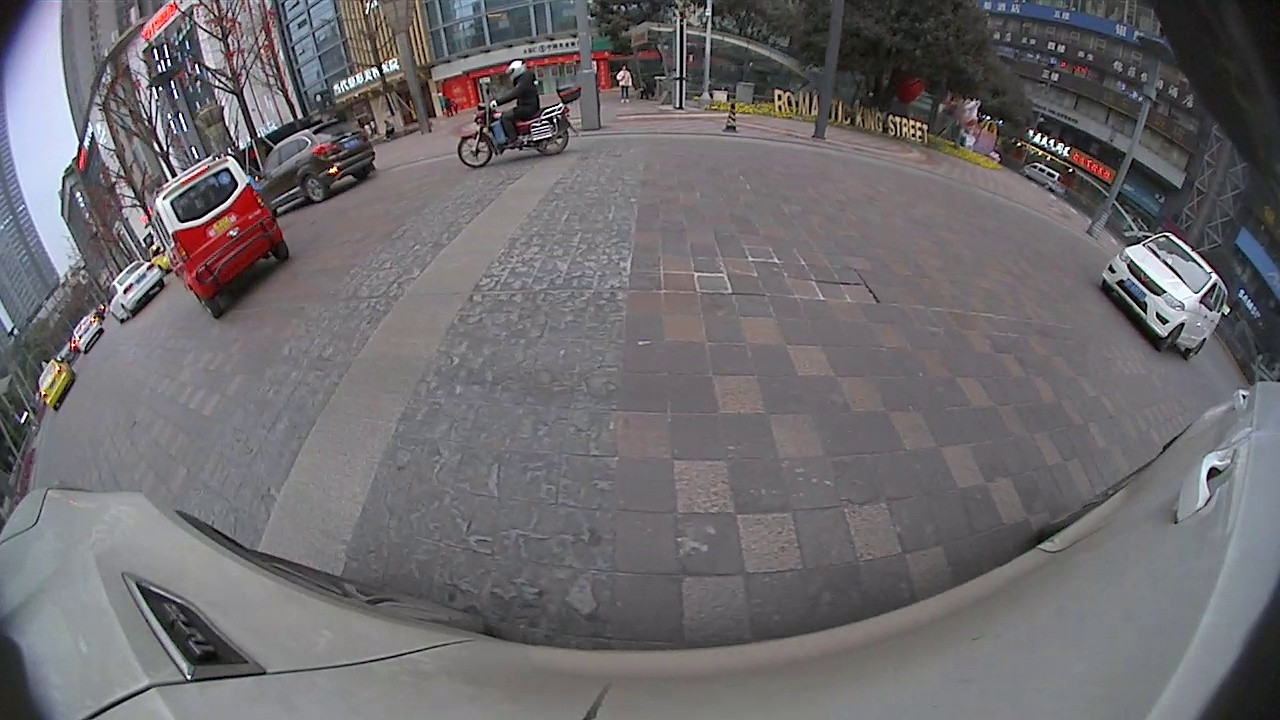car: (1100, 235, 1229, 362), (258, 123, 381, 200), (111, 259, 167, 319), (39, 360, 76, 413), (72, 316, 102, 352), (1018, 164, 1061, 189)
front: (457, 132, 493, 170), (1156, 320, 1187, 355)
person: (621, 64, 629, 105)
rear: (535, 129, 571, 155), (1179, 337, 1210, 365), (303, 175, 331, 203)
rider: (148, 156, 293, 316), (457, 57, 582, 168)
